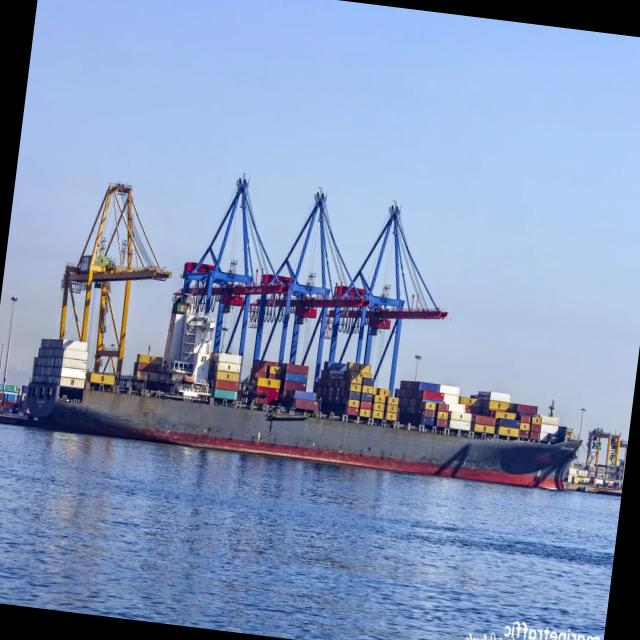Cargo: (28, 301, 579, 489)
